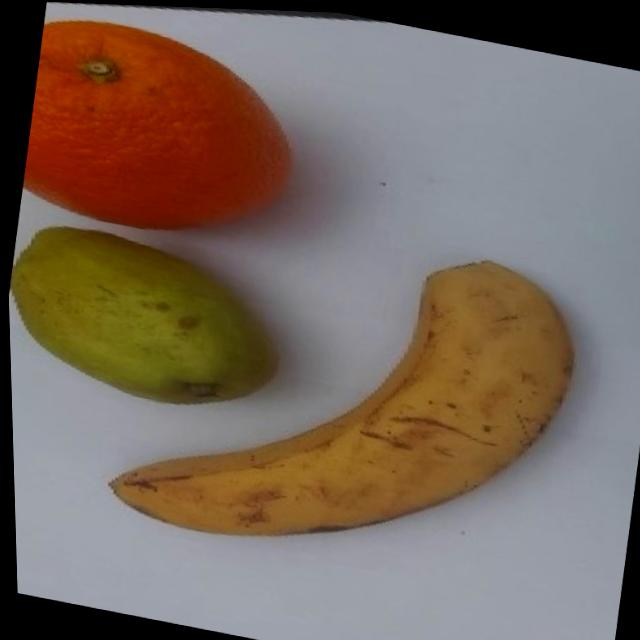Banana: (93, 189, 591, 596)
Orange: (15, 7, 309, 254)
